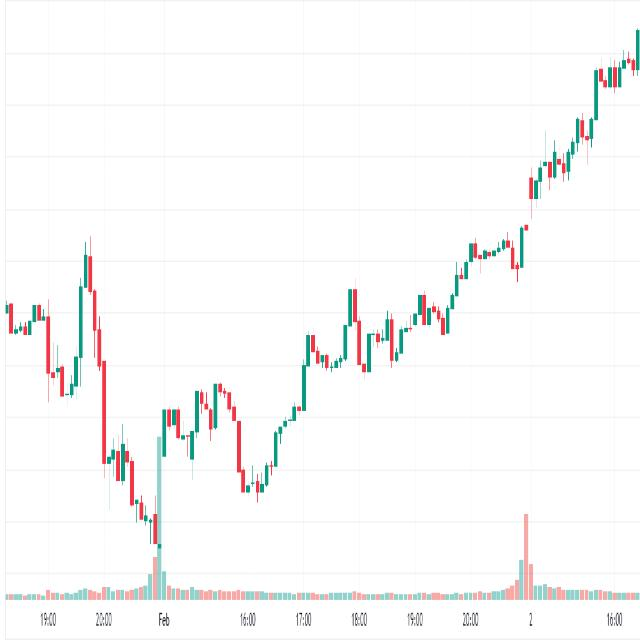Rising-Wedge: (210, 213, 526, 534)
